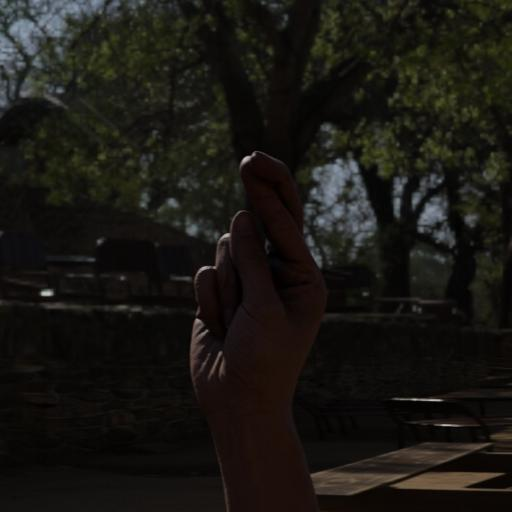R: (134, 107, 458, 431)
